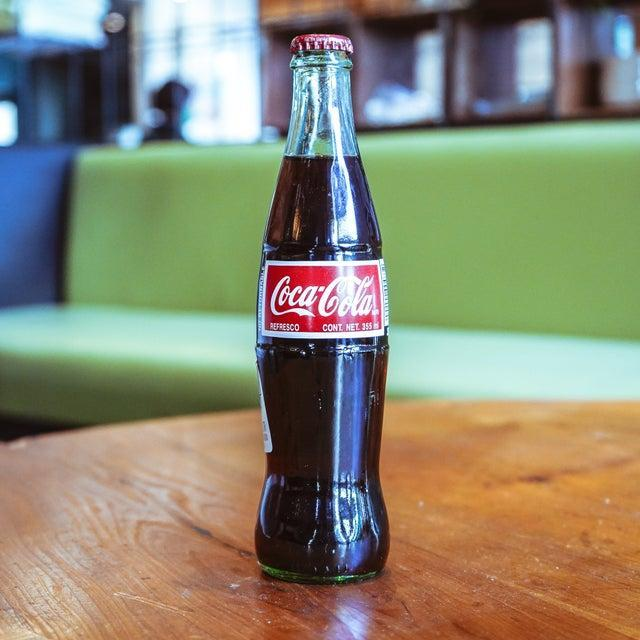coca-cola: (249, 27, 396, 581)
